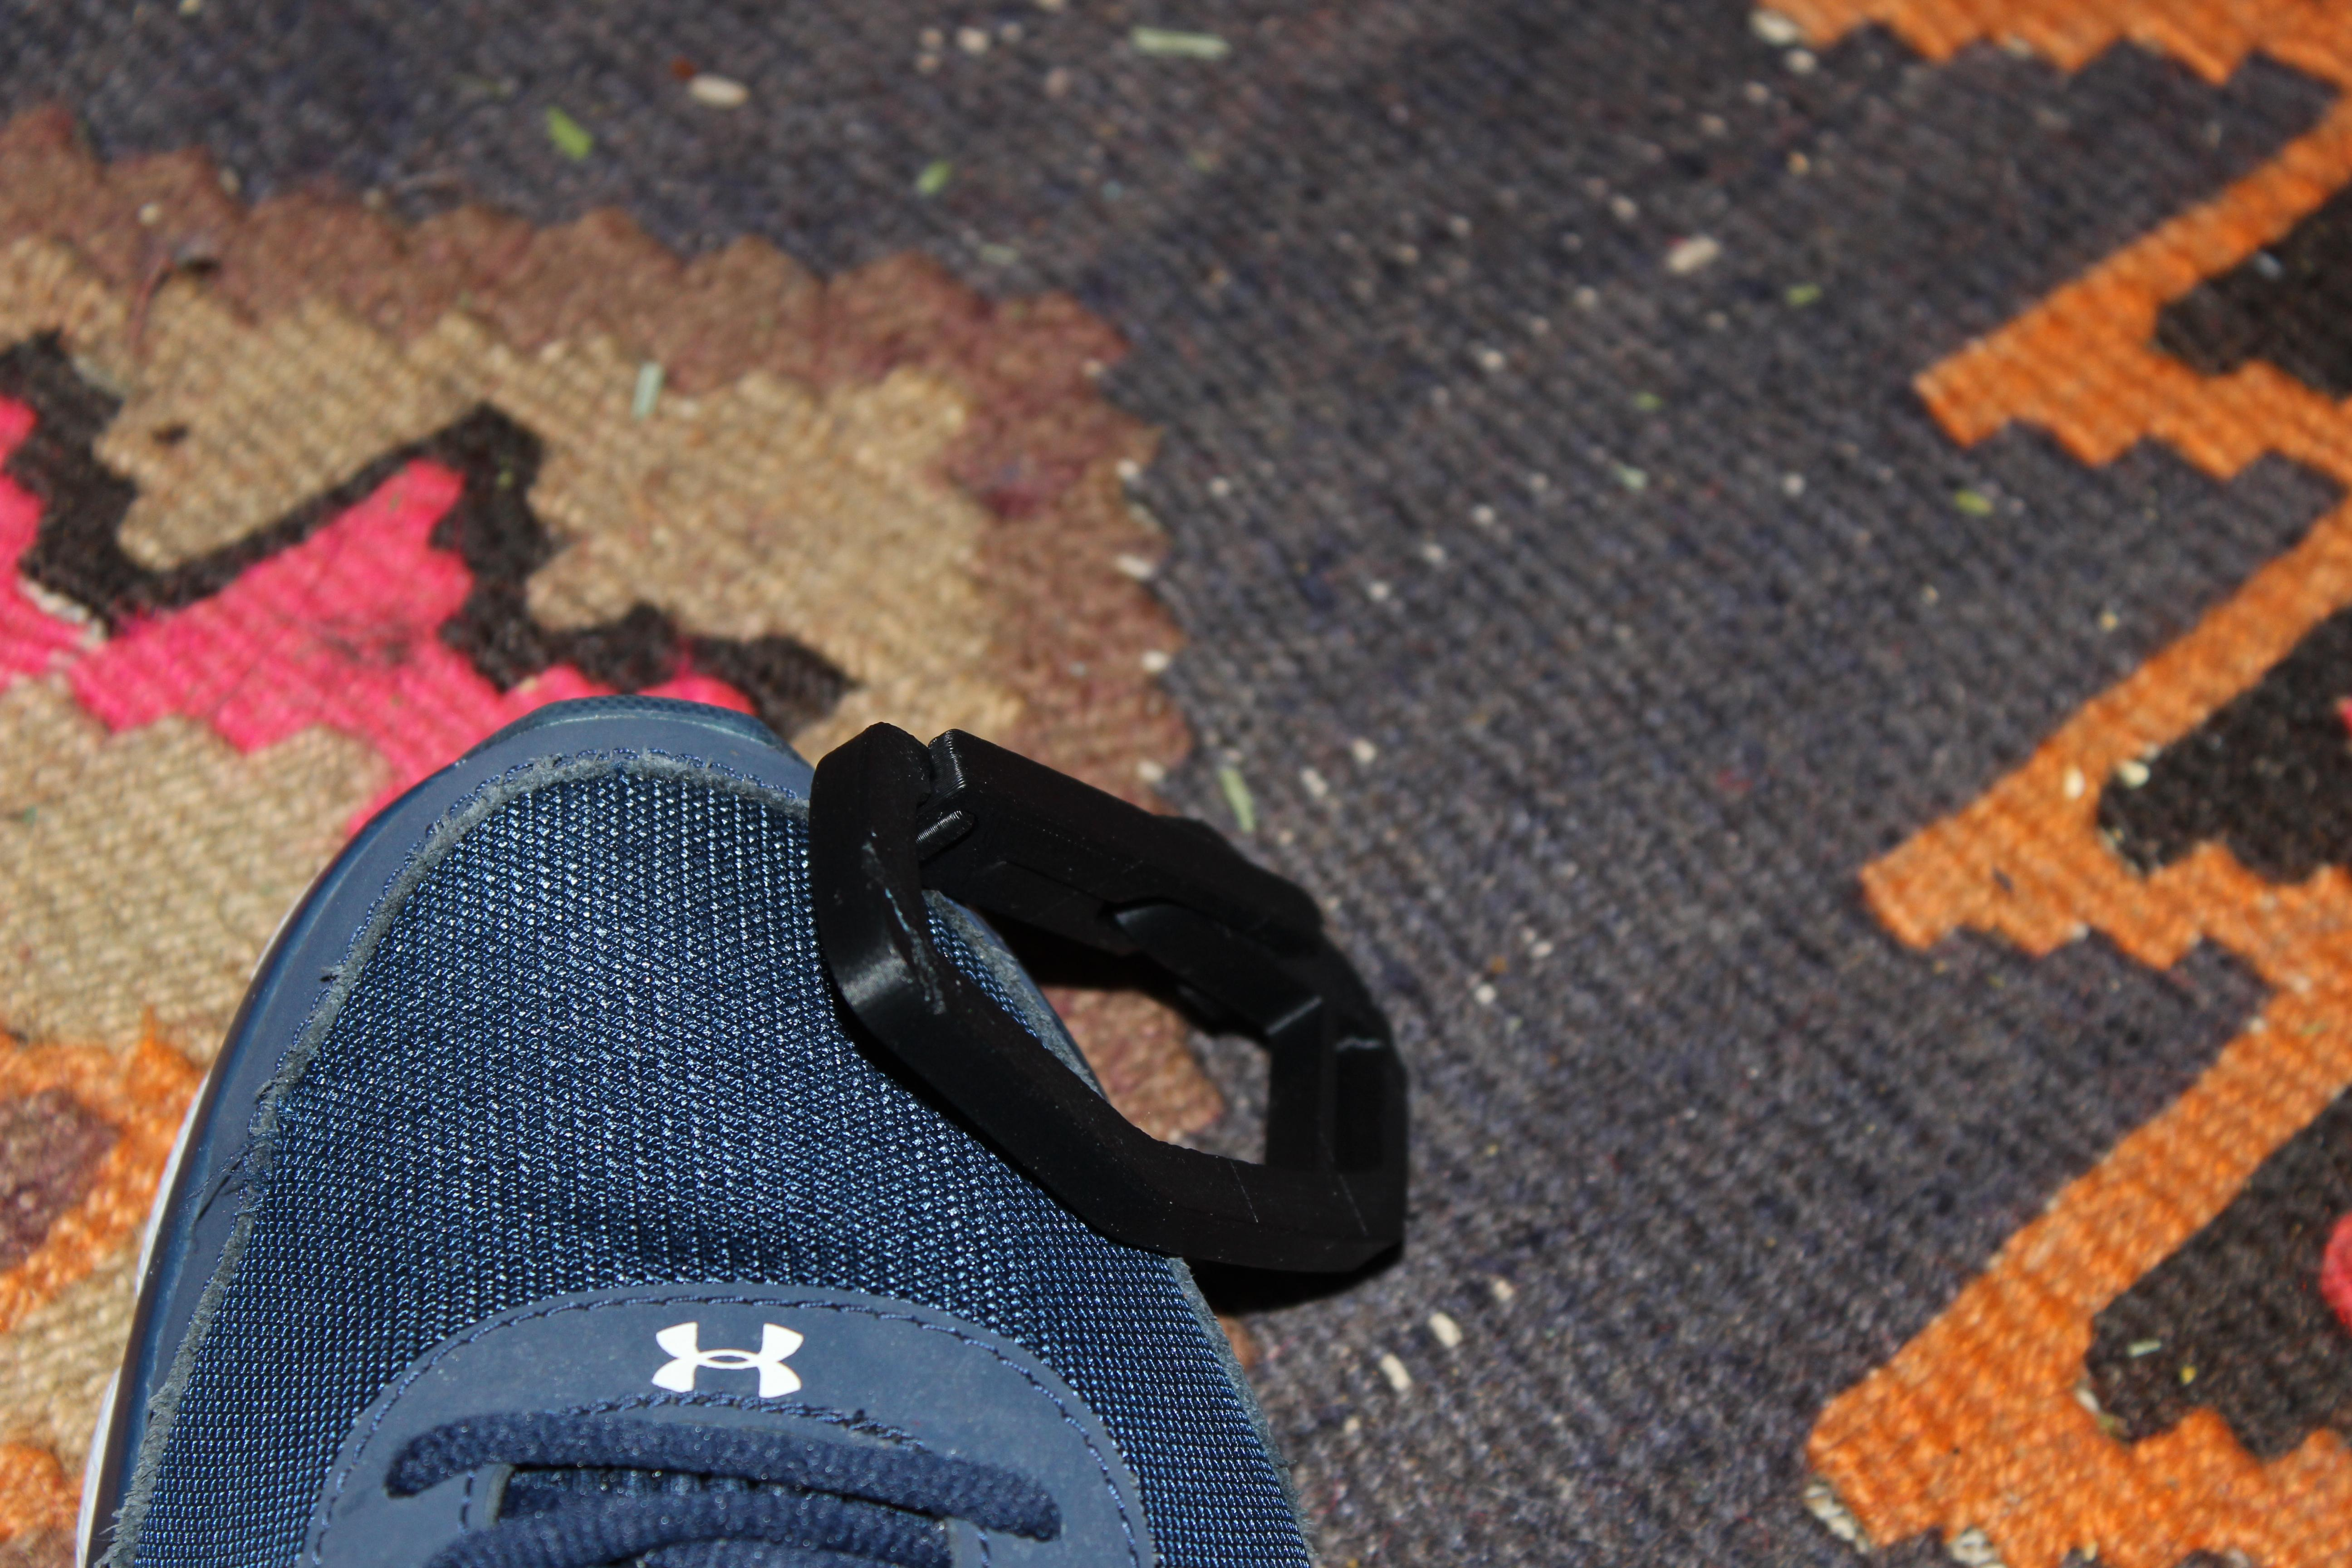carabiner: (777, 675, 1460, 1356)
